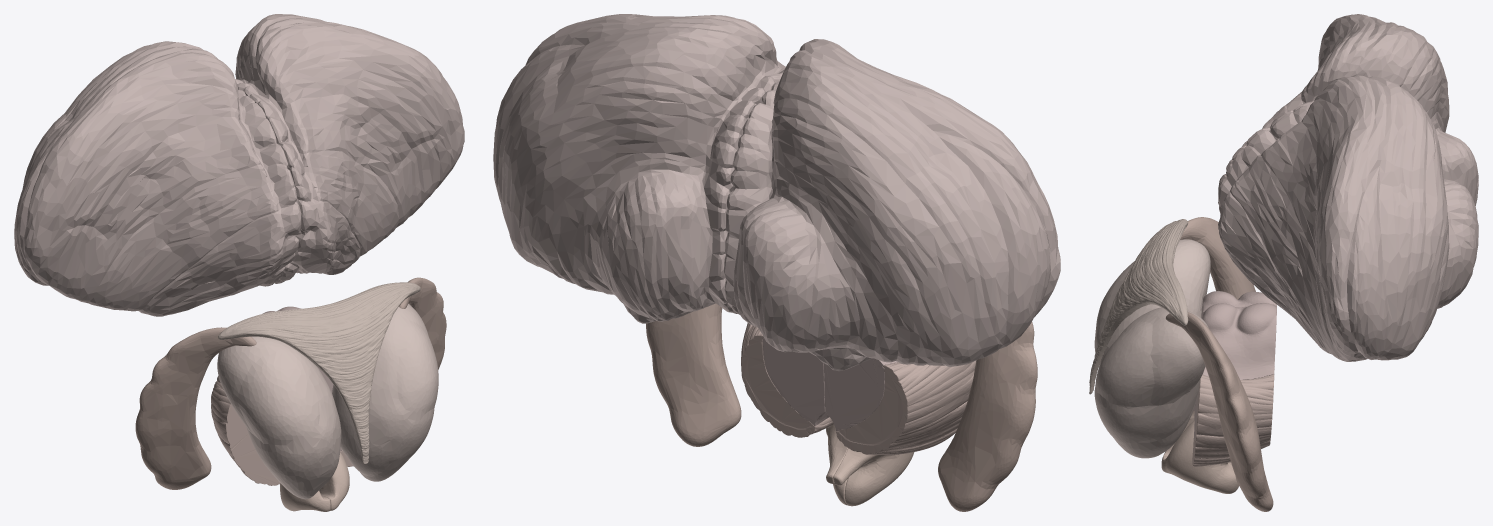
The model's file is cerveau.glb.
The picture shows the model from 3 angles, left to right: view 1: azimuth 30°, elevation 25°; view 2: azimuth 150°, elevation 25°; view 3: azimuth 270°, elevation 25°; orthographic projection. The views are drawn at different scales.
Visible parts, largest first — view 1: cervelet, thalamus-d, fornix, thalamus-g, hippocampe-d, peduncle, hippocampe-g, hypothalamus; view 2: cervelet, peduncle, hippocampe-d, hippocampe-g, midbrain, hypothalamus; view 3: cervelet, thalamus-g, hippocampe-g, midbrain, fornix, peduncle, thalamus-d, hypothalamus, hippocampe-d.
Boxes of the visible parts, x1,y1,x2,y2 form: cervelet: (14,14,464,316); thalamus-d: (217,336,341,499); fornix: (218,282,420,463); thalamus-g: (332,304,438,481); hippocampe-d: (135,327,256,489); peduncle: (211,376,353,485); hippocampe-g: (399,277,446,369); hypothalamus: (280,453,349,511); cervelet: (493,14,1060,371); peduncle: (741,323,975,454); hippocampe-d: (938,322,1037,511); hippocampe-g: (646,303,741,446); midbrain: (762,338,897,431); hypothalamus: (826,424,914,506); cervelet: (1218,14,1478,361); thalamus-g: (1094,307,1208,458); hippocampe-g: (1165,312,1273,511); midbrain: (1194,291,1276,438); fornix: (1089,219,1188,394); peduncle: (1192,374,1274,466); thalamus-d: (1094,239,1210,367); hypothalamus: (1161,411,1238,493); hippocampe-d: (1180,217,1255,299).
Size of the model in its own units: 2 by 1.84 by 1.49.
